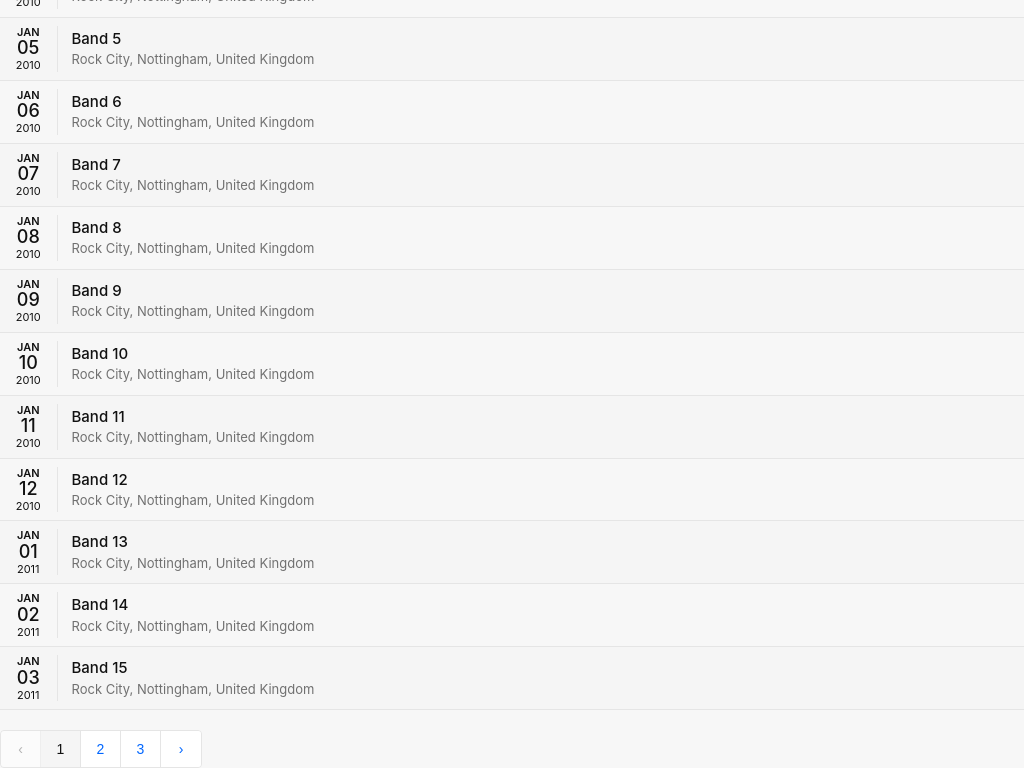
it: SetlistsStats and Modals › paginates My Gigs 15 per page with a page size option
This screenshot has width=1024, height=768.
(page scrolled)
Expected: the text "Band 15" is shown, 72,658 -> 127,677
Click the button "3" at [141, 749], box 121,731 -> 161,767
(page scrolled)
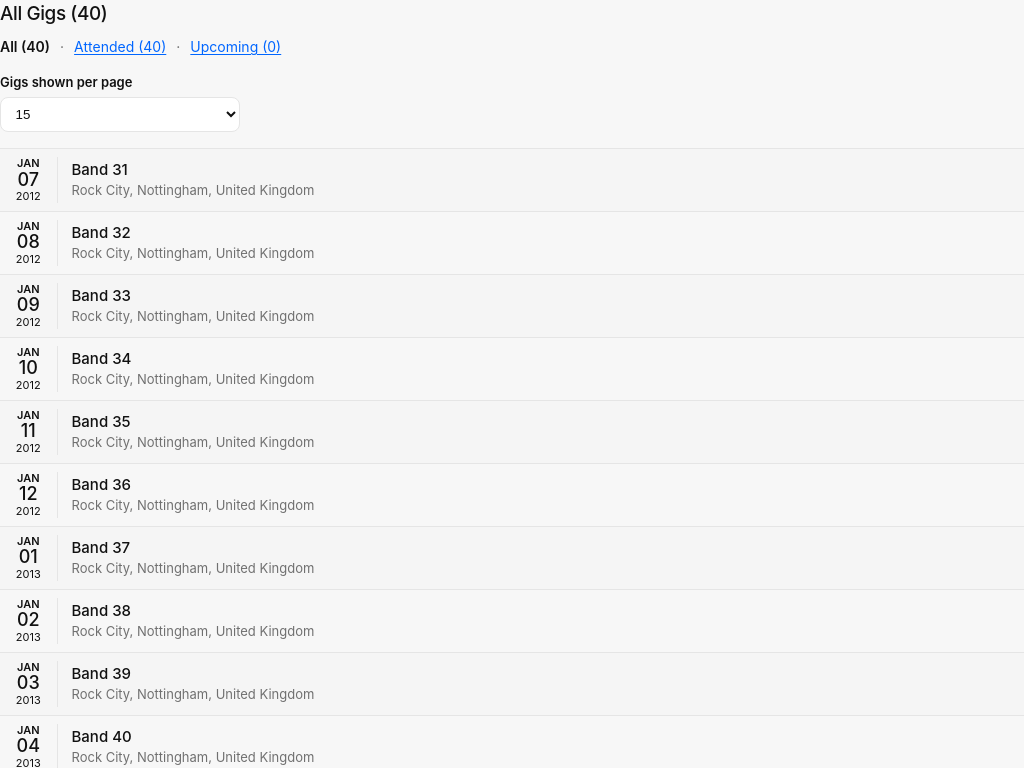
Expected: the text "Band 30" is not shown
Result: the text "Band 31" is shown at 72,160 -> 128,179
Result: the text "Band 40" is shown at 72,727 -> 132,746
Click the button "Attended (40)" at [120, 47], box 74,36 -> 166,57
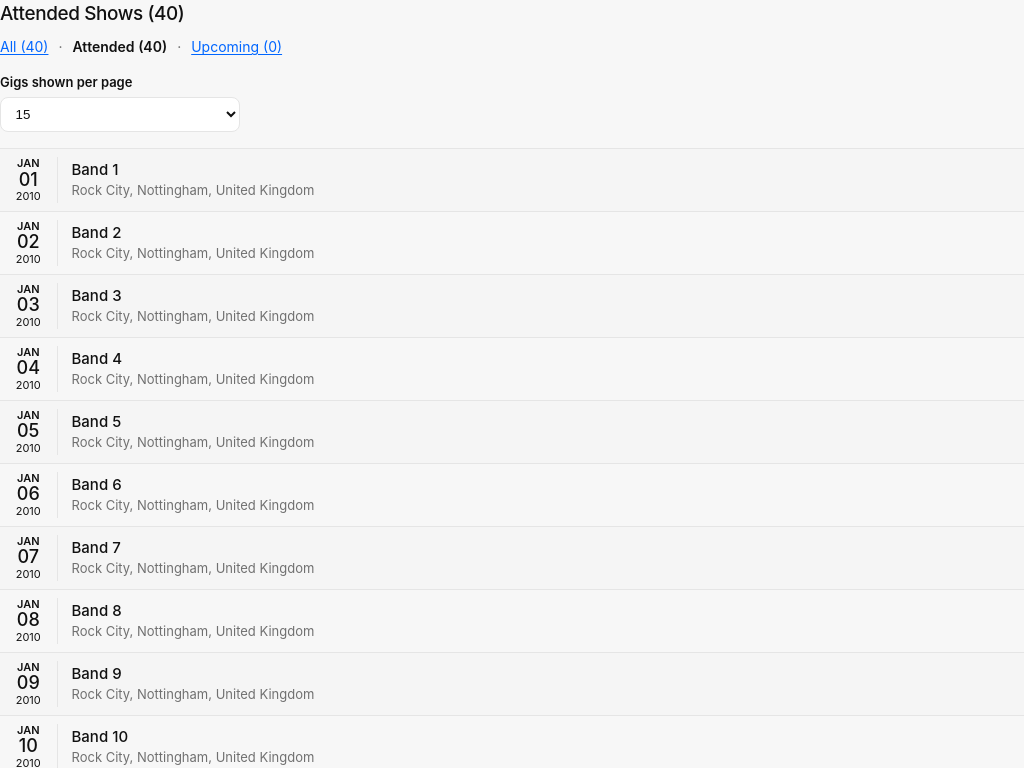
Result: the text "Band 1" is shown at 72,160 -> 118,179
Select "50" in the dropdown labelled "Gigs shown per page" at [120, 114], box 0,97 -> 240,132
(page scrolled)
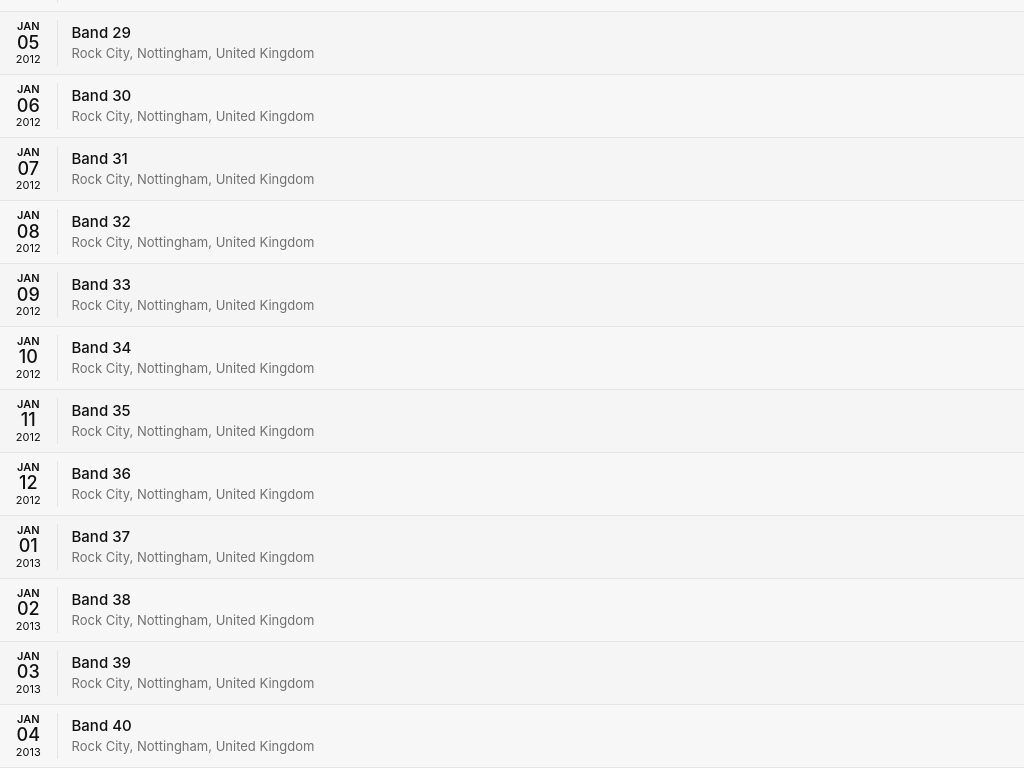
Result: the text "Band 40" is shown at 72,716 -> 132,735
